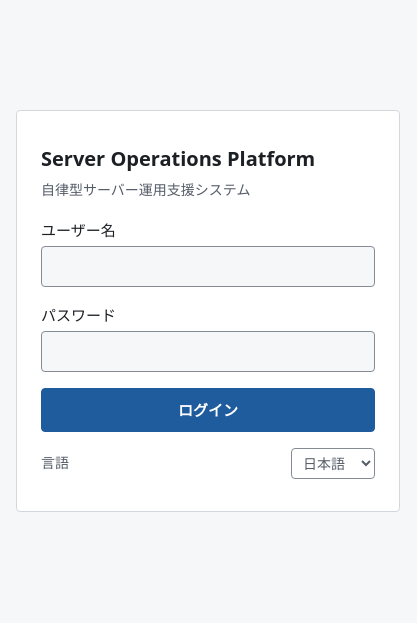
LoginView › MFAが必要と返されたら認証コード欄を出す
Type "admin" into the field with id "username" at (208, 266), box [41,246,375,286]
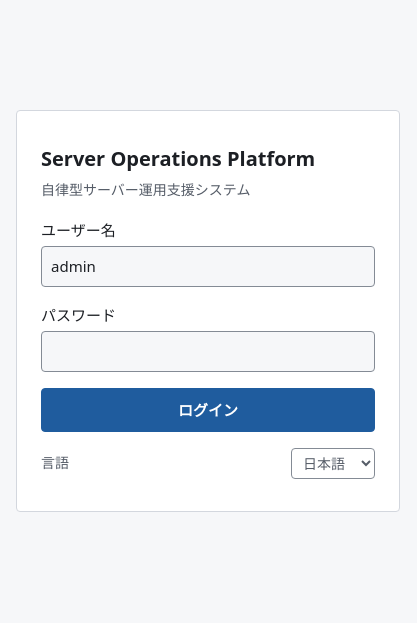
Type "pw" into the password field labelled "パスワード" at (208, 351), box [41,330,375,372]
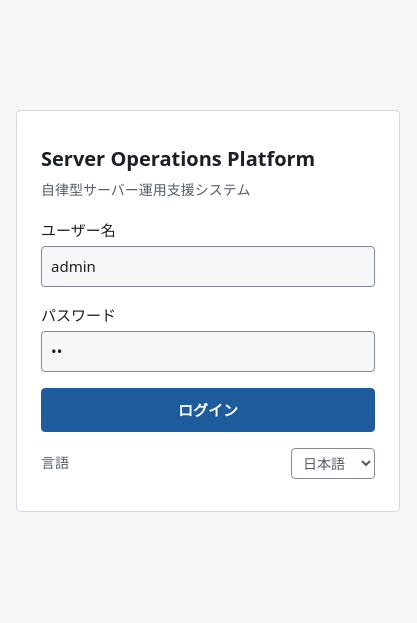
Submit the form, box [16,110,400,512]
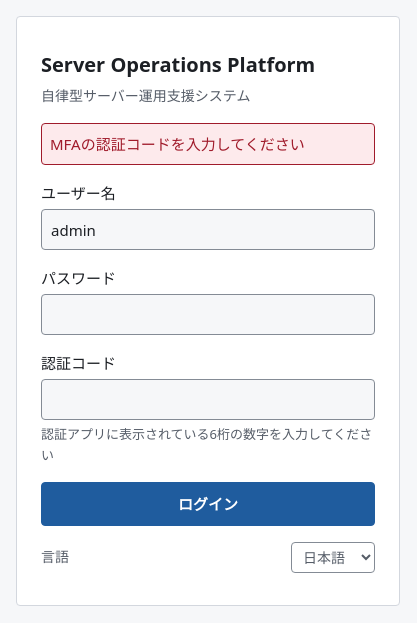
Now the element with test id "totp-field" is shown, box [41,351,375,466]
Now the message with test id "login-error" shows "MFA", box [41,123,375,165]
